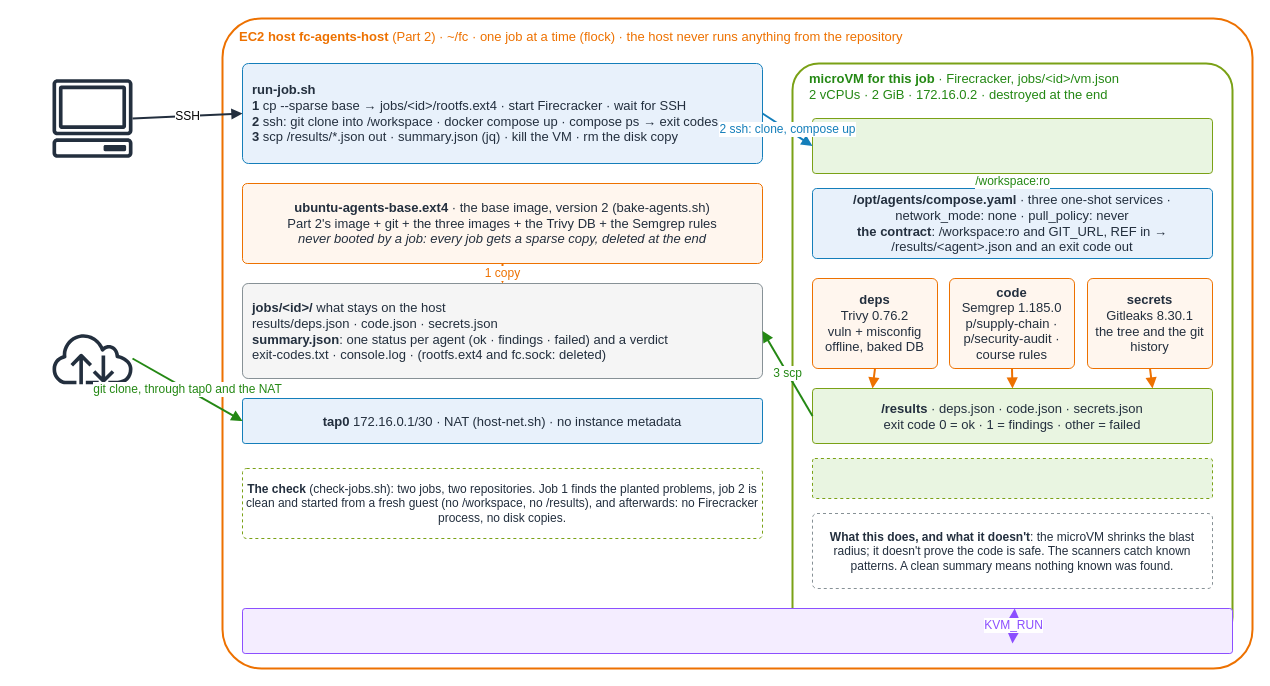
Some shapes in this 1270 by 686 pixel diagram are drawn without their labels. Here are the shapes that lost their labels. From the top down, the centre of each, then its label:
(x=92, y=118): You (Part 4: a Lambda) ./run-job.sh <git-url> <ref>
(x=1012, y=146): /workspace · git clone + checkout <ref> the job's only network call
(x=92, y=358): GitHub the repository to scan untrusted code
(x=1012, y=478): Docker Engine + Compose · Ubuntu 24.04 · guest kernel 6.18.54 (Part 2)
(x=737, y=631): KVM in the host kernel · /dev/kvm
